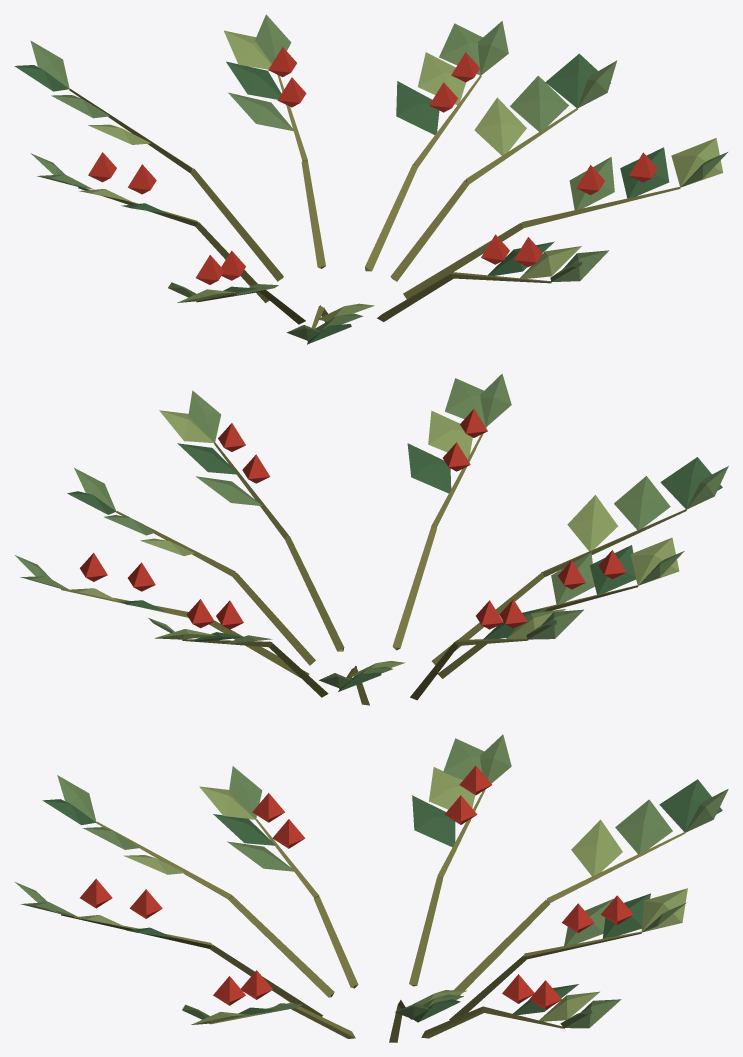
File: w9b-lookout-bearberry-far.glb
3 views of the same model, one above another, from view 1: azimuth 30°, elevation 25°; view 2: azimuth 150°, elevation 25°; view 3: azimuth 270°, elevation 25° (orthographic). The views are drawn at different scales.
Parts seen in each view (by area): view 1: Rock lookout trailing bearberry.001; view 2: Rock lookout trailing bearberry.001; view 3: Rock lookout trailing bearberry.001.
Part boxes in pixels (x1,y1,x2,y2): Rock lookout trailing bearberry.001: (14,14,727,344); Rock lookout trailing bearberry.001: (15,373,728,705); Rock lookout trailing bearberry.001: (14,734,728,1042).
Size of the model in its own units: 1.02 by 0.2913 by 1.16.
